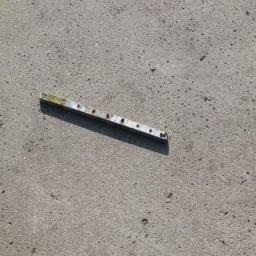FOD: (38, 91, 171, 149)
